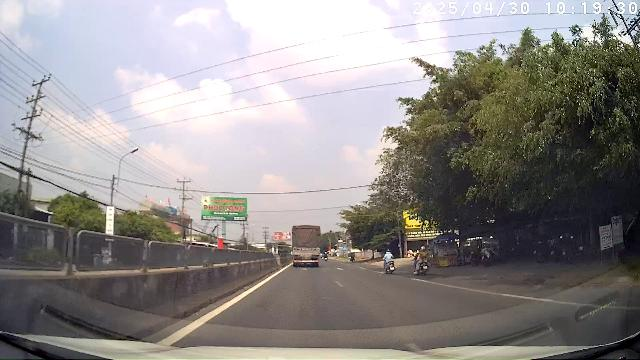423a-duong-nguoi-di-bo-sang-ngang-1: (343, 246, 347, 250)
